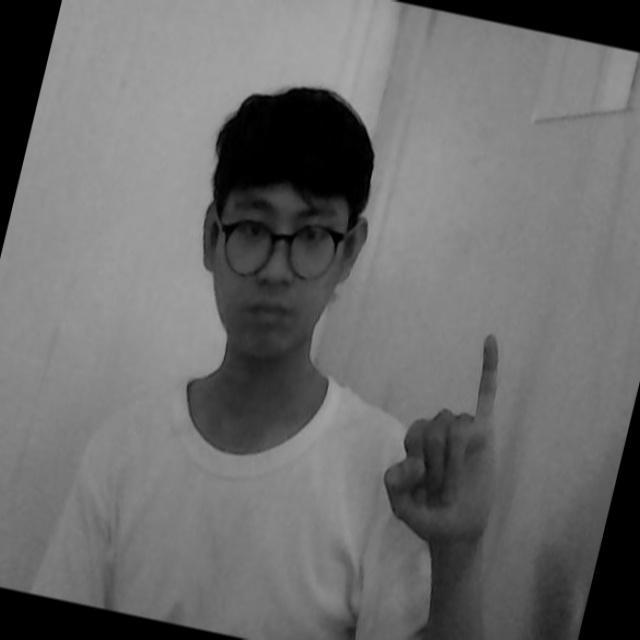I: (373, 300, 546, 587)
